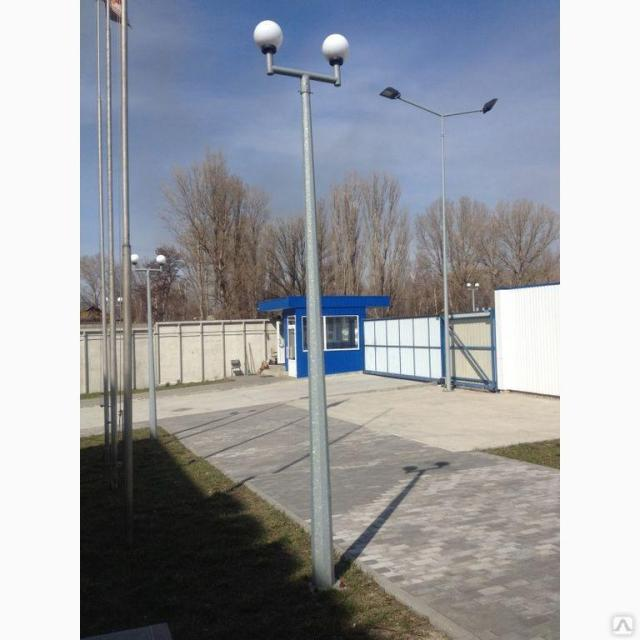pole: (286, 214, 351, 590), (137, 314, 172, 461)
